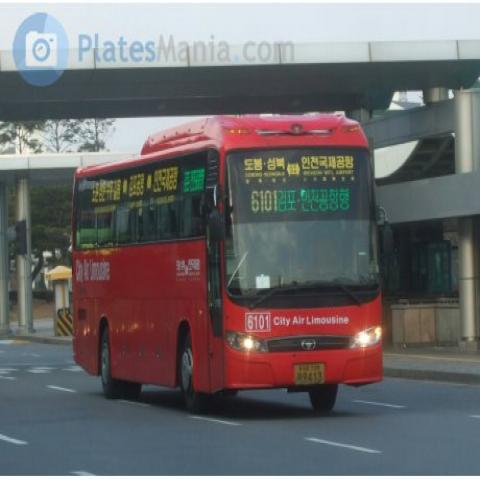LP: (289, 352, 325, 391)
